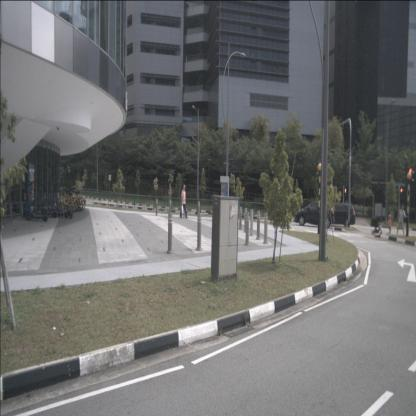human-pedestrian-adult: (396, 203, 407, 237), (180, 184, 188, 219)
vehicle-car: (294, 200, 335, 228), (320, 203, 356, 227)
